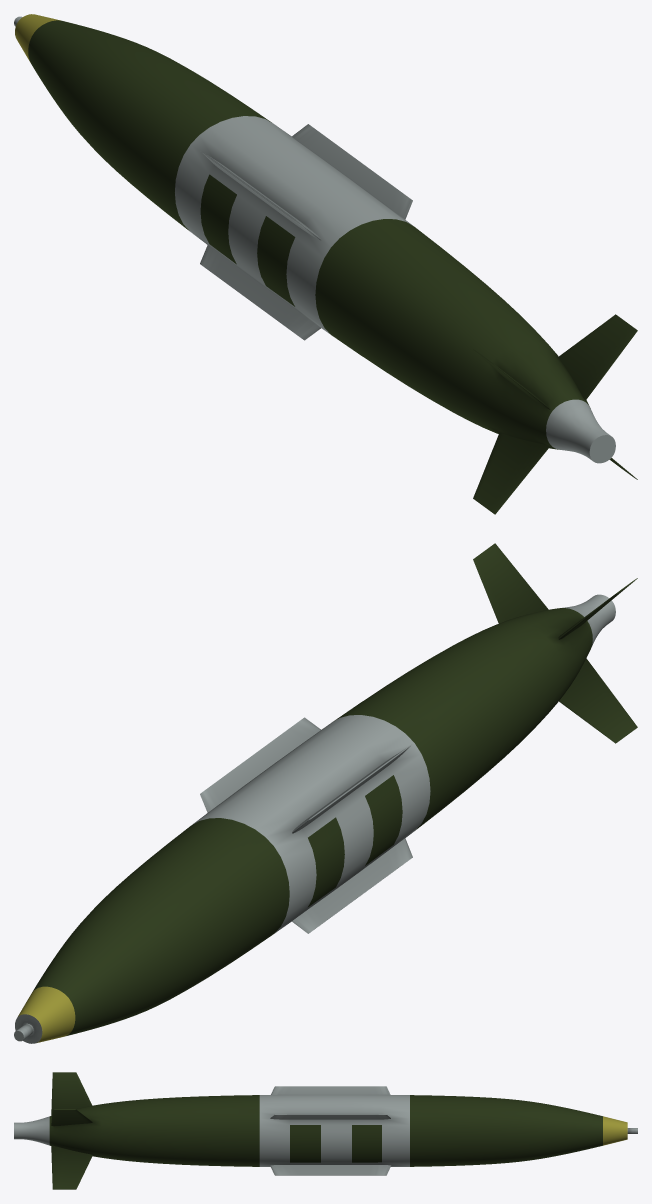
Rendered from w_gbu31.glb.
The picture shows the model from 3 angles, top to bottom: view 1: azimuth 30°, elevation 25°; view 2: azimuth 150°, elevation 25°; view 3: azimuth 270°, elevation 25°; orthographic projection. The views are drawn at different scales.
Visible parts, largest first — view 1: body|Material, body|.001, body|material; view 2: body|Material, body|.001, body|material; view 3: body|Material, body|.001, body|material.
Boxes of the visible parts, box(x1,y1,x2,y2) form: body|Material: box(28, 20, 637, 514); body|.001: box(14, 16, 615, 463); body|material: box(15, 14, 60, 62); body|Material: box(32, 543, 637, 1035); body|.001: box(14, 594, 615, 1043); body|material: box(18, 986, 75, 1042); body|Material: box(49, 1072, 602, 1189); body|.001: box(14, 1086, 637, 1175); body|material: box(603, 1116, 627, 1145).
Bounding box in the file's own units: 0.5502 × 0.5502 × 3.88.
3 materials, 3 textured.
